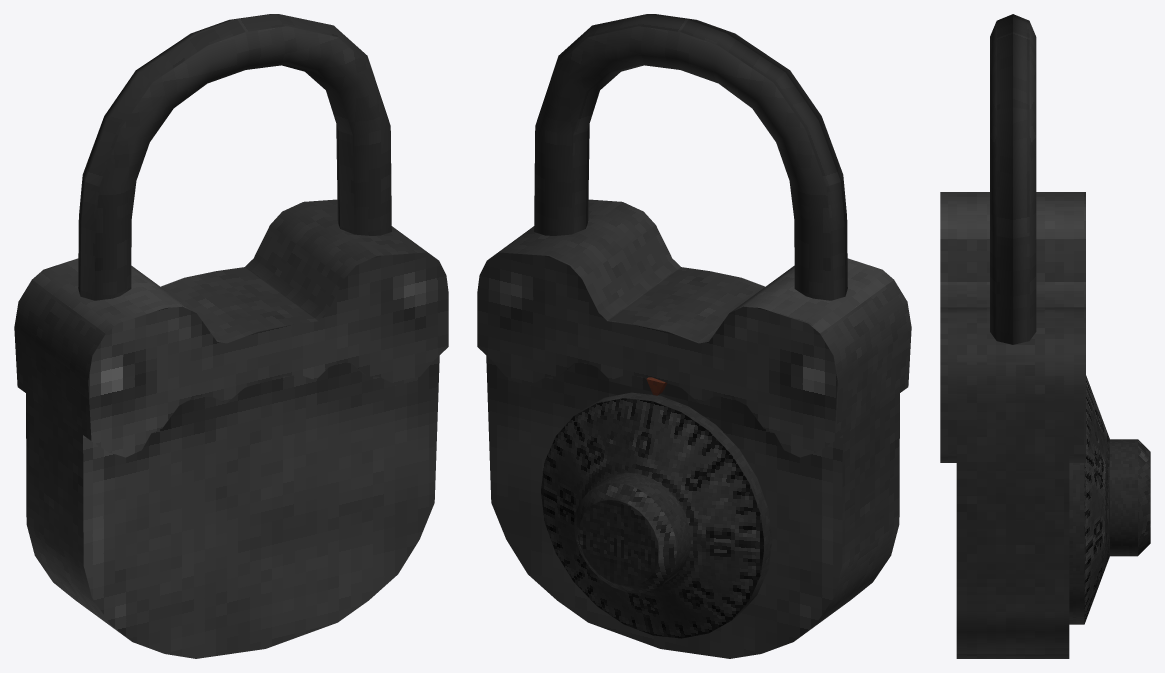
File: padlock_4.glb
The picture shows the model from 3 angles, left to right: view 1: azimuth 30°, elevation 25°; view 2: azimuth 150°, elevation 25°; view 3: azimuth 270°, elevation 25°; orthographic projection.
Visible parts, largest first — view 1: padlock_4; view 2: padlock_4, knob_3; view 3: padlock_4, knob_3.
Boxes of the visible parts, left/top/right/bottom form: padlock_4: left=14, top=14, right=448, bottom=658; padlock_4: left=477, top=14, right=911, bottom=658; knob_3: left=541, top=392, right=772, bottom=638; padlock_4: left=940, top=14, right=1085, bottom=658; knob_3: left=1069, top=375, right=1150, bottom=624.
Size of the model in its own units: 0.0805 by 0.1299 by 0.0413.
Materials: 1 (1 with a texture image).
